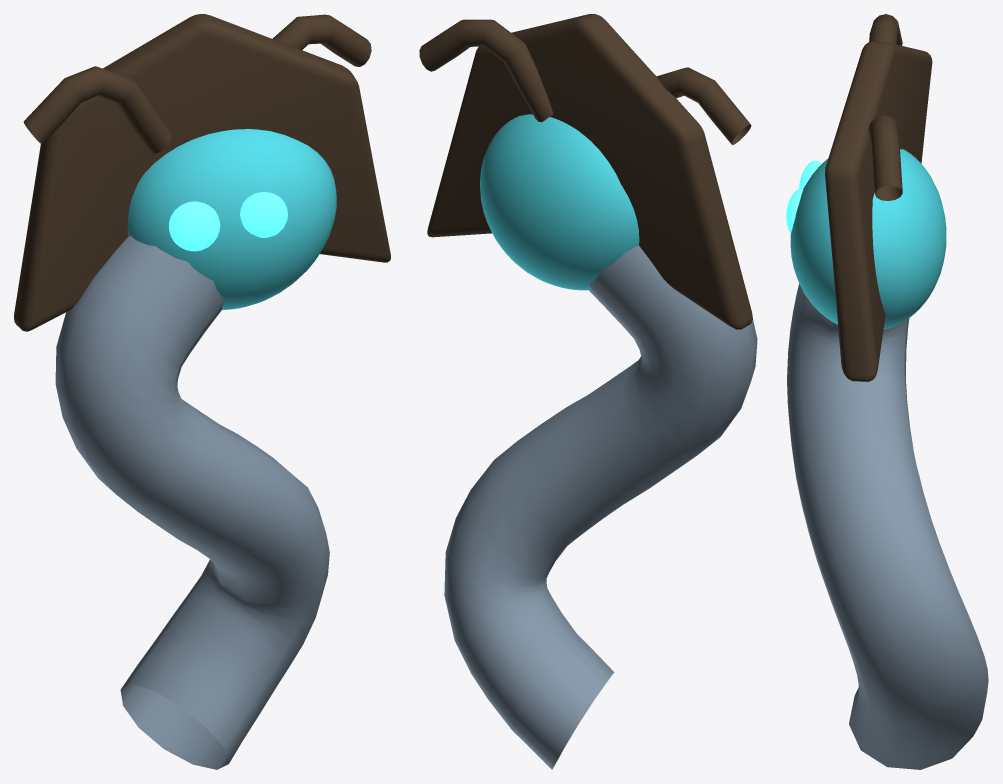
The model's file is serpent_v8.glb.
The picture shows the model from 3 angles, left to right: view 1: azimuth 30°, elevation 25°; view 2: azimuth 150°, elevation 25°; view 3: azimuth 270°, elevation 25°; orthographic projection. The views are drawn at different scales.
Visible parts, largest first — view 1: SERPENT_COIL_PRIMARY, COBRA_HOOD_SECONDARY, COBRA_HEAD_ACCENT, SWEEP_ANTLER_SECONDARY, SWEEP_ANTLER_SECONDARY.001, EYE_EMISSIVE, EYE_EMISSIVE.001; view 2: SERPENT_COIL_PRIMARY, COBRA_HOOD_SECONDARY, COBRA_HEAD_ACCENT, SWEEP_ANTLER_SECONDARY.001, SWEEP_ANTLER_SECONDARY; view 3: SERPENT_COIL_PRIMARY, COBRA_HOOD_SECONDARY, COBRA_HEAD_ACCENT, SWEEP_ANTLER_SECONDARY.001, SWEEP_ANTLER_SECONDARY, EYE_EMISSIVE.001.
Boxes of the visible parts, bbox=[...] form: SERPENT_COIL_PRIMARY: bbox=[55, 236, 329, 769]; COBRA_HOOD_SECONDARY: bbox=[14, 14, 390, 331]; COBRA_HEAD_ACCENT: bbox=[127, 129, 336, 309]; SWEEP_ANTLER_SECONDARY: bbox=[23, 66, 172, 153]; SWEEP_ANTLER_SECONDARY.001: bbox=[272, 14, 371, 66]; EYE_EMISSIVE: bbox=[169, 201, 220, 251]; EYE_EMISSIVE.001: bbox=[240, 192, 287, 237]; SERPENT_COIL_PRIMARY: bbox=[444, 245, 757, 769]; COBRA_HOOD_SECONDARY: bbox=[427, 14, 752, 329]; COBRA_HEAD_ACCENT: bbox=[480, 114, 639, 290]; SWEEP_ANTLER_SECONDARY.001: bbox=[419, 19, 553, 122]; SWEEP_ANTLER_SECONDARY: bbox=[656, 67, 751, 145]; SERPENT_COIL_PRIMARY: bbox=[787, 284, 988, 769]; COBRA_HOOD_SECONDARY: bbox=[825, 41, 932, 381]; COBRA_HEAD_ACCENT: bbox=[790, 149, 946, 329]; SWEEP_ANTLER_SECONDARY.001: bbox=[868, 115, 902, 200]; SWEEP_ANTLER_SECONDARY: bbox=[869, 14, 902, 45]; EYE_EMISSIVE.001: bbox=[786, 188, 803, 233].
Bounding box in the file's own units: 1.5 × 3.12 × 0.795.
